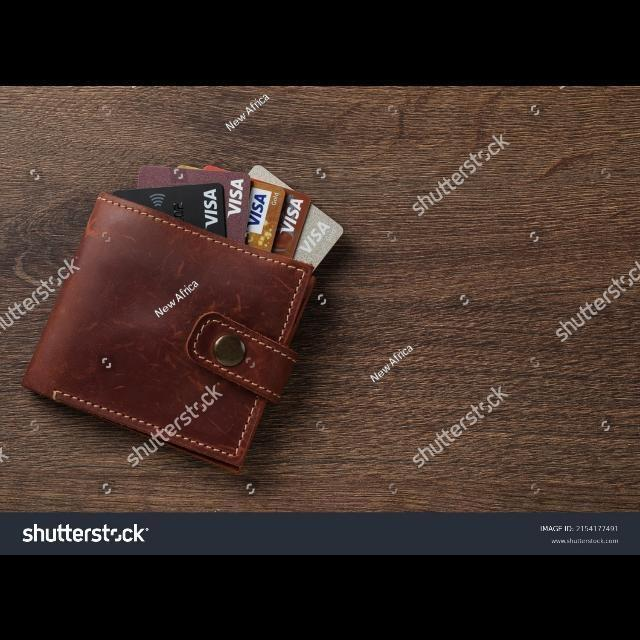Wallet: (39, 177, 348, 476)
